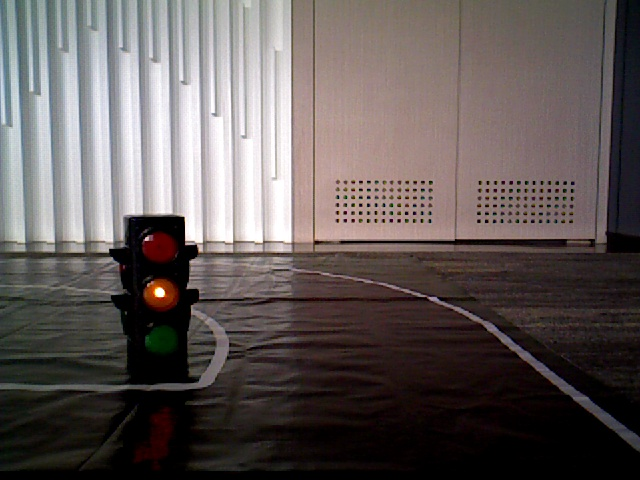yellow: (126, 222, 188, 370)
